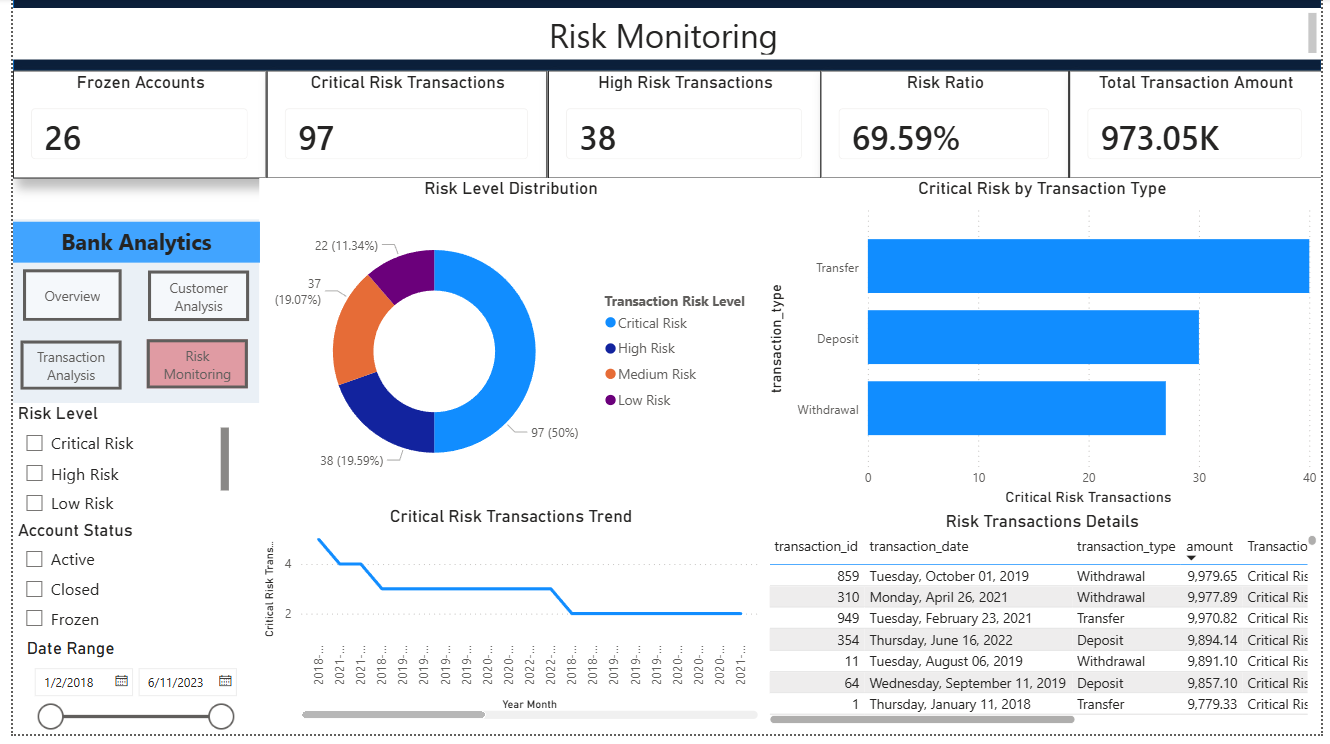

This screenshot's page, from the dashboard's own definition file:
{"tool":"powerbi","page":{"name":"Risk Monitoring","canvas":[1280,720],"ordinal":3},"visuals":[{"type":"shape","box":[0,0,1280.3,71.4],"z":0},{"type":"textbox","box":[0,9.6,1280.3,50.8],"z":1000},{"type":"slicer","title":"Risk Level","fields":{"Values":["transactions_bank.Transaction Risk Level"]},"box":[0,396.2,216.4,113.7],"z":2000},{"type":"slicer","title":"Account Status","fields":{"Values":["accounts.status"]},"box":[0,509.9,229.9,116.2],"z":3000},{"type":"slicer","title":"Date Range","fields":{"Values":["Date Table.Date"]},"box":[8.6,626.1,216.4,94.2],"z":4000},{"type":"cardVisual","title":"Frozen Accounts","fields":{"Data":["Measures Table.Frozen Accounts"]},"box":[0,71.4,248.4,105.7],"z":5000},{"type":"cardVisual","title":"Critical Risk Transactions","fields":{"Data":["Measures Table.Critical Risk Transactions"]},"box":[248.4,71.4,274.4,105.7],"z":6000},{"type":"cardVisual","title":"High Risk Transactions","fields":{"Data":["Measures Table.High Risk Transactions"]},"box":[522.8,71.4,267.6,105.7],"z":7000},{"type":"cardVisual","title":"Risk Ratio","fields":{"Data":["Measures Table.Risk Transaction Ratio"]},"box":[790.4,71.4,242.9,105.7],"z":8000},{"type":"cardVisual","title":"Total Transaction Amount","fields":{"Data":["Measures Table.Total Transaction Amount"]},"box":[1033.3,71.4,247,105.7],"z":9000},{"type":"donutChart","title":"Risk Level Distribution","fields":{"Category":["transactions_bank.Transaction Risk Level"],"Y":["Measures Table.Total Transactions"]},"box":[240.9,176.1,492.8,320.4],"z":10000},{"type":"lineChart","title":"Critical Risk Transactions Trend","fields":{"Category":["Date Table.Year Month"],"Y":["Measures Table.Critical Risk Transactions"]},"box":[240.9,496.5,492.8,214],"z":11000},{"type":"clusteredBarChart","title":"Critical Risk by Transaction Type","fields":{"Category":["transactions_bank.transaction_type"],"Y":["Measures Table.Critical Risk Transactions"]},"box":[733.7,176.1,546.6,325.3],"z":12000},{"type":"tableEx","title":"Risk Transactions Details","fields":{"Values":["transactions_bank.transaction_id","transactions_bank.transaction_date","transactions_bank.transaction_type","transactions_bank.amount","transactions_bank.Transaction Risk Level","transactions_bank.description","accounts.status"]},"box":[733.7,501.4,546.6,214],"z":13000},{"type":"shape","box":[0,216.4,240.9,179.8],"z":13500},{"type":"group","id":"g1","title":"Group 1","box":[0,218.4,241.3,164.1],"z":14000},{"type":"actionButton","box":[7.2,334.2,98.9,48.3],"z":21500,"group":"g1"},{"type":"actionButton","box":[9.7,265.5,96.5,50.7],"z":21750,"group":"g1"},{"type":"actionButton","box":[131.5,266.7,98.9,49.5],"z":21875,"group":"g1"},{"type":"textbox","box":[0,218.4,241.3,39.8],"z":22000,"group":"g1"},{"type":"actionButton","box":[130.3,333,98.9,48.3],"z":23000,"group":"g1"}]}

Visuals, with their boxes in screenshot pixels (x1, y1, x2, y2), scaled from the page's 1280x720 canvas onto the 1330x744 screenshot:
shape: l=0, t=0, r=1329, b=74
textbox: l=0, t=10, r=1329, b=62
"Risk Level" slicer: l=0, t=409, r=225, b=527
"Account Status" slicer: l=0, t=527, r=239, b=647
"Date Range" slicer: l=9, t=647, r=234, b=743
"Frozen Accounts" cardVisual: l=0, t=74, r=258, b=183
"Critical Risk Transactions" cardVisual: l=258, t=74, r=543, b=183
"High Risk Transactions" cardVisual: l=543, t=74, r=821, b=183
"Risk Ratio" cardVisual: l=821, t=74, r=1074, b=183
"Total Transaction Amount" cardVisual: l=1074, t=74, r=1329, b=183
"Risk Level Distribution" donutChart: l=250, t=182, r=762, b=513
"Critical Risk Transactions Trend" lineChart: l=250, t=513, r=762, b=734
"Critical Risk by Transaction Type" clusteredBarChart: l=762, t=182, r=1329, b=518
"Risk Transactions Details" tableEx: l=762, t=518, r=1329, b=739
shape: l=0, t=224, r=250, b=409
"Group 1" group: l=0, t=226, r=251, b=395
actionButton: l=7, t=345, r=110, b=395
actionButton: l=10, t=274, r=110, b=327
actionButton: l=137, t=276, r=239, b=327
textbox: l=0, t=226, r=251, b=267
actionButton: l=135, t=344, r=238, b=394
